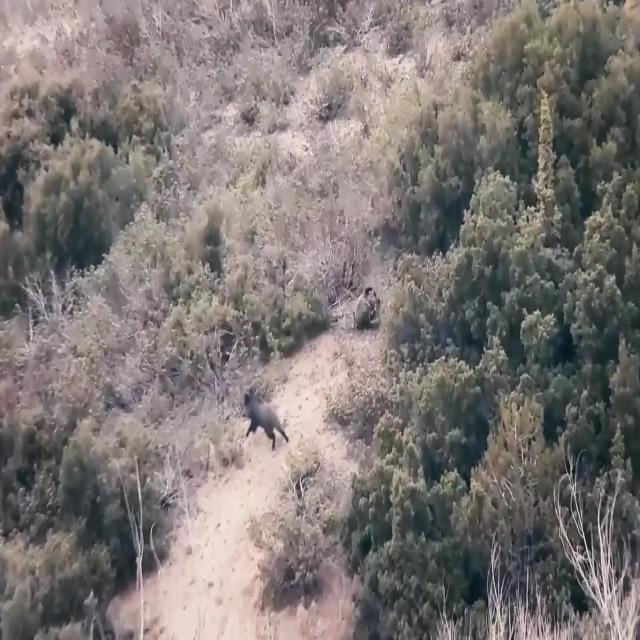pig: (242, 368, 302, 478)
